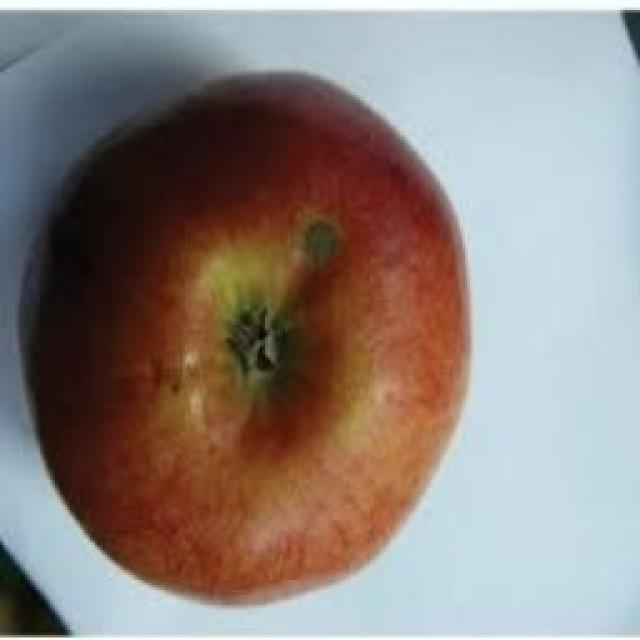defective: (18, 65, 472, 605)
